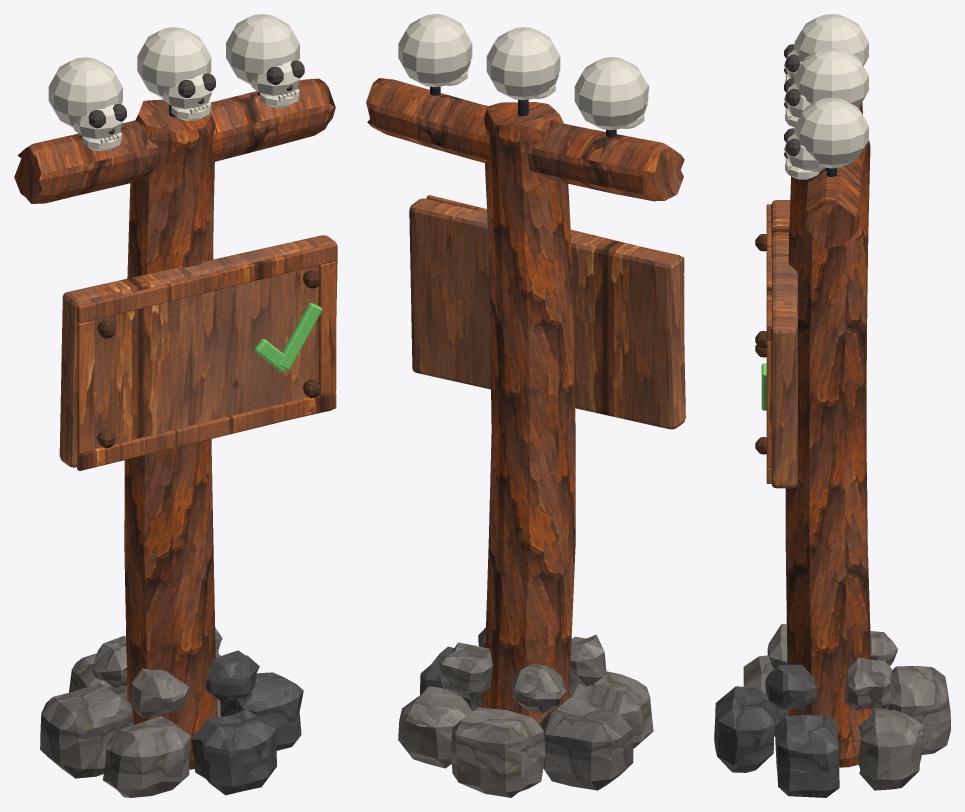
The model's file is signpost_skulls.glb.
3 renders of one model, left to right at view 1: azimuth 30°, elevation 25°; view 2: azimuth 150°, elevation 25°; view 3: azimuth 270°, elevation 25°, orthographic. The views are drawn at different scales.
Parts seen in each view (by area): view 1: post, skull_mid, skull_l, skull_r, tick; view 2: post, skull_mid, skull_l, skull_r; view 3: post, skull_r, skull_mid, skull_l.
Part boxes in pixels (x1,y1,x2,y2): post: (14,78,337,797); skull_mid: (137,27,215,121); skull_l: (48,57,126,151); skull_r: (226,14,304,107); tick: (254,303,322,372); post: (366,78,685,797); skull_mid: (486,27,560,116); skull_l: (574,57,648,137); skull_r: (398,14,472,95); post: (714,102,950,797); skull_r: (784,97,868,179); skull_mid: (784,47,868,127); skull_l: (784,14,868,82).
Bounding box in the file's own units: 0.7411 × 1.73 × 0.5259.
14 materials, 8 textured.
